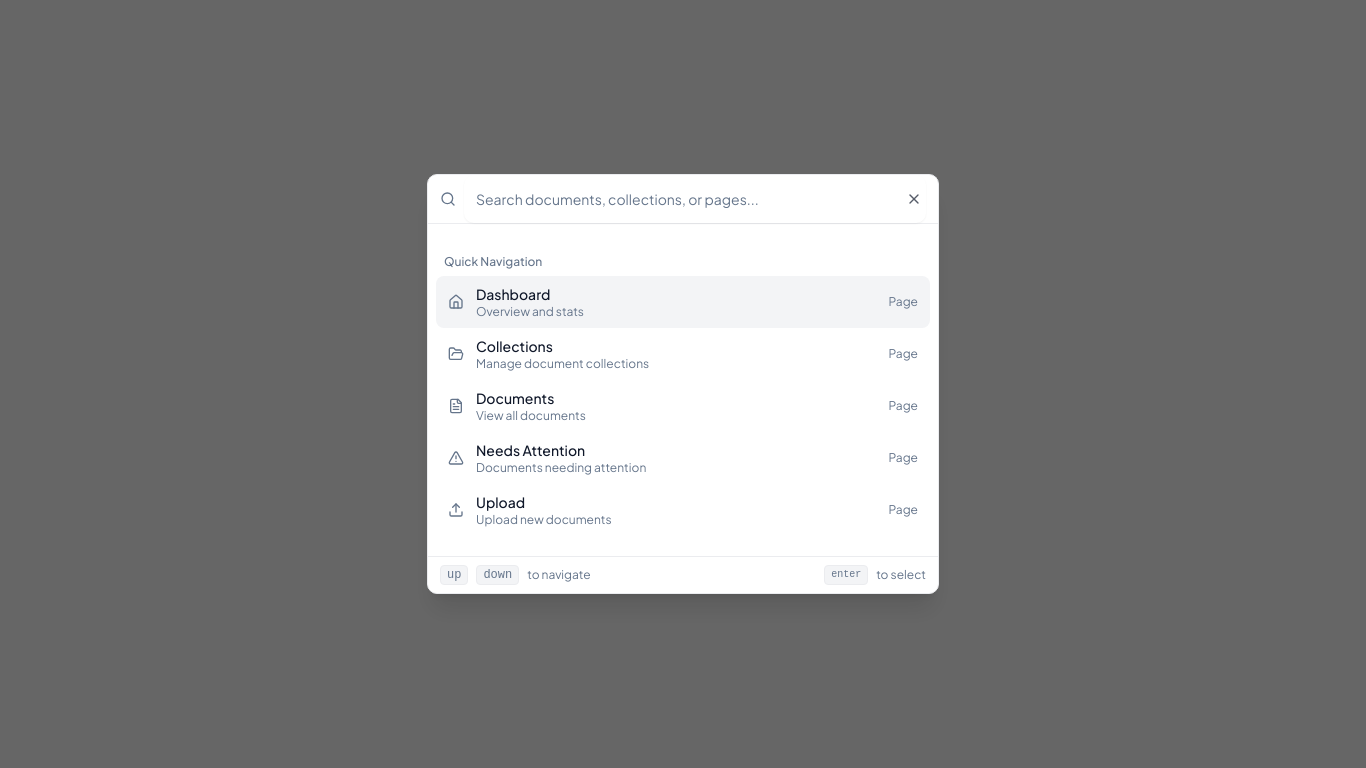
Test: GlobalSearch › searching pages › shows 'Pages' section header when searching
The image size is (1366, 768).
In the field with placeholder "Search documents, collections, or pages...": {"x": 695, "y": 199} [464,175,926,223], type "dash"
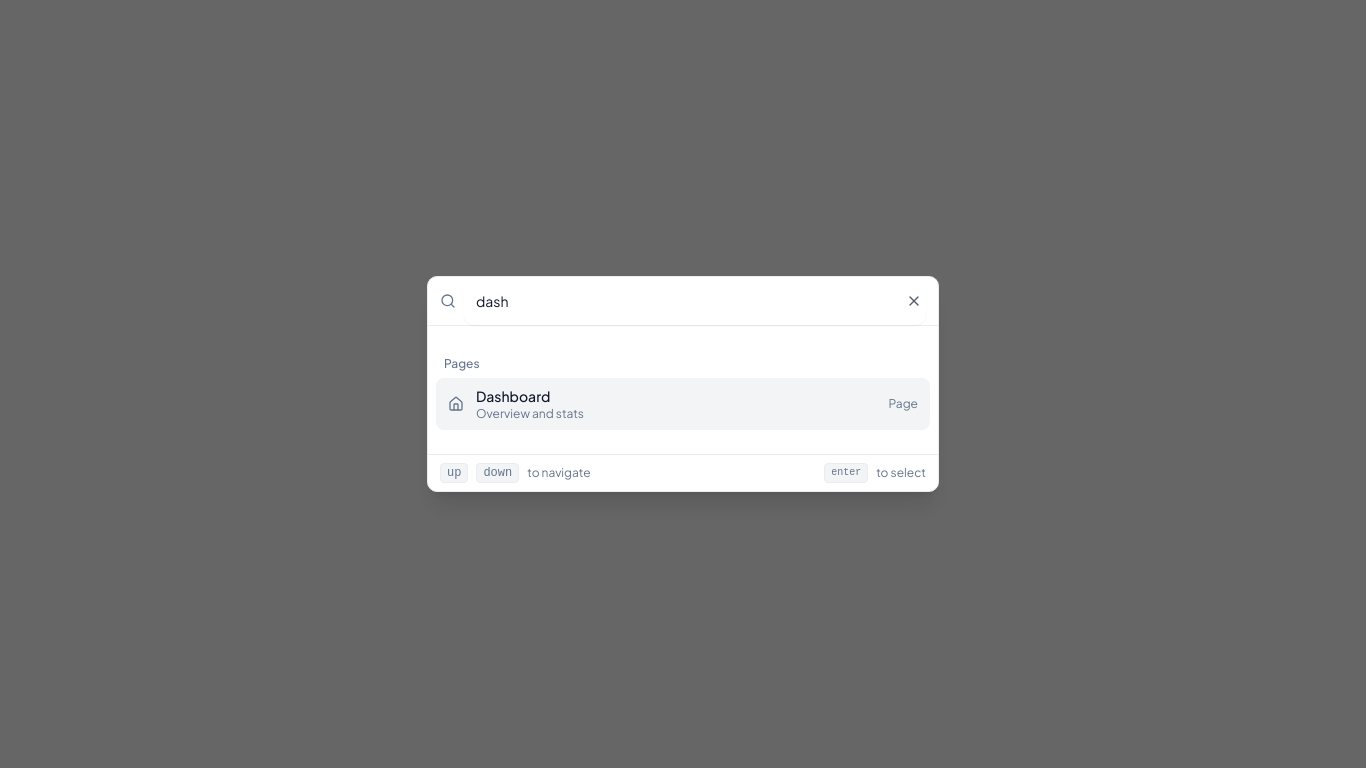
expect the text "Pages" is shown: met, box [444,356,480,371]
